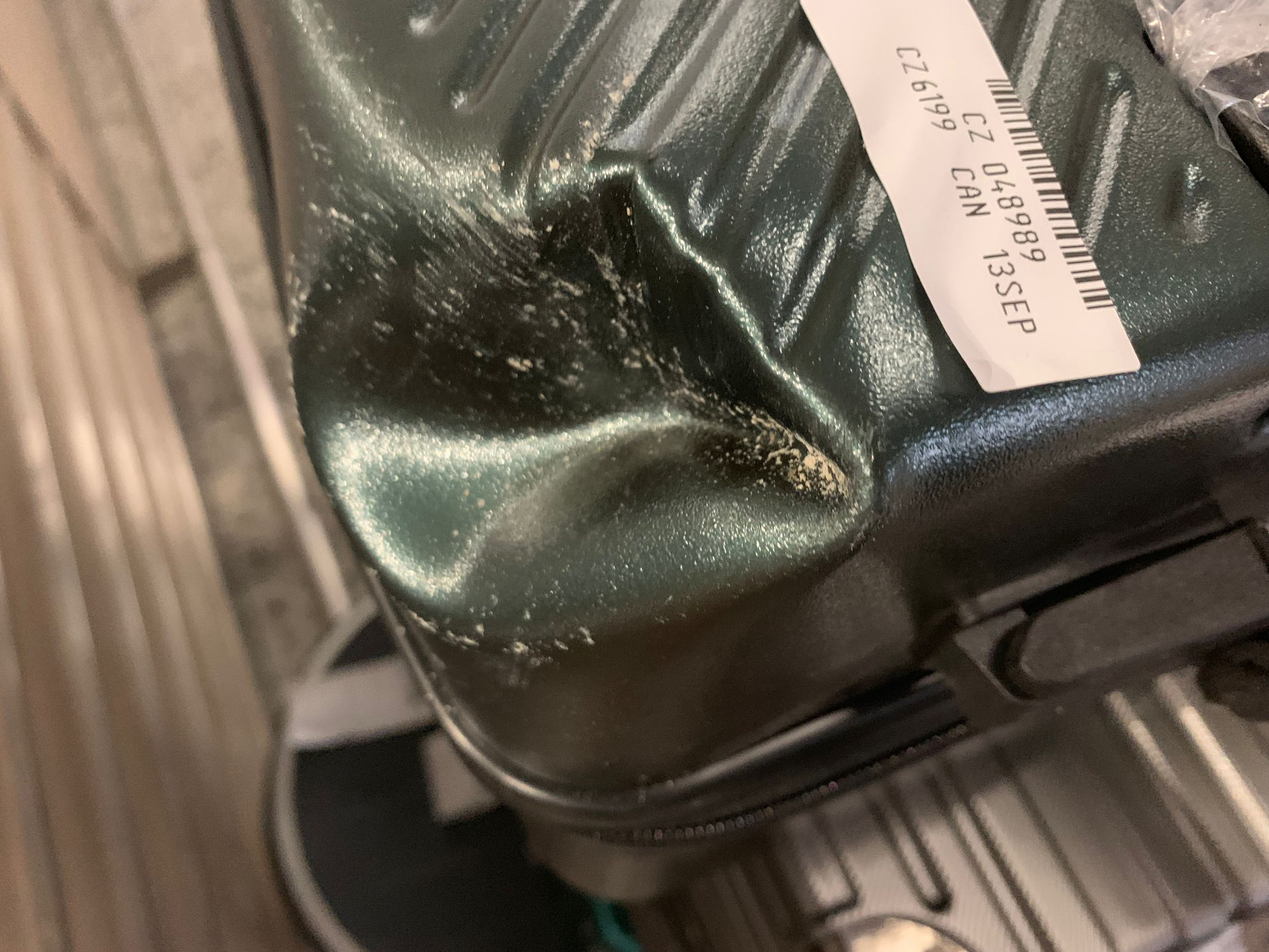rupture: (293, 156, 874, 653)
